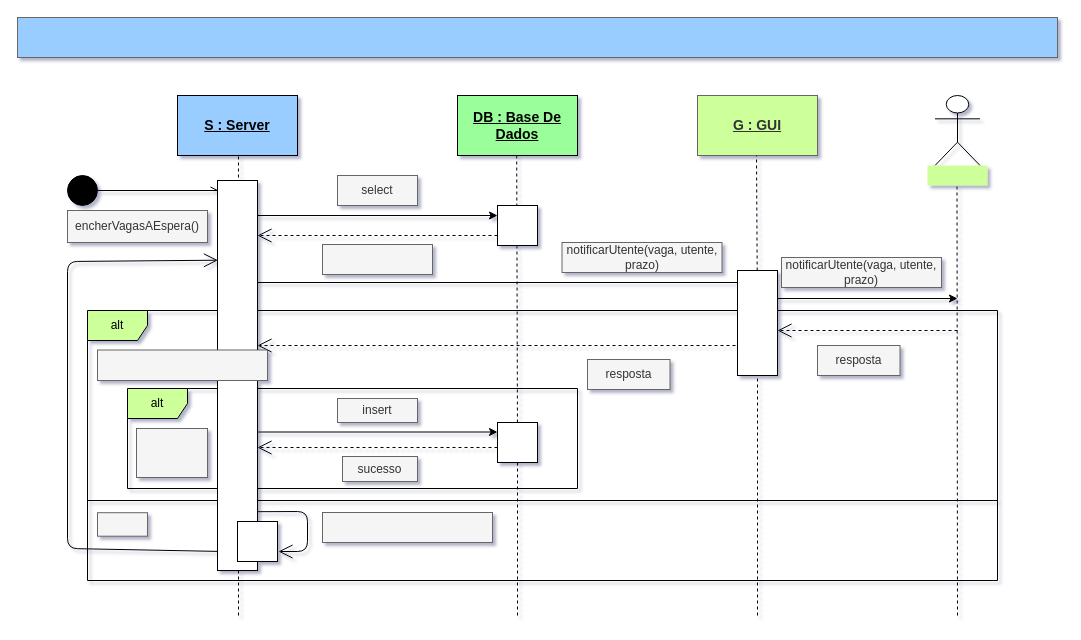
Some shapes in this 1081 by 640 pixel diagram are drawn without their labels. Each missing label, with the centre of its shape:
[Respondeu dentro do prazo]: the point at 182,364
[Resposta Positiva]: the point at 172,453
else: the point at 122,524
ENCHER VAGAS | LISTA DE ESPERA: the point at 537,37
lista de espera: the point at 377,259
notificarProximoUtente(utente): the point at 407,527
utente: the point at 957,175
